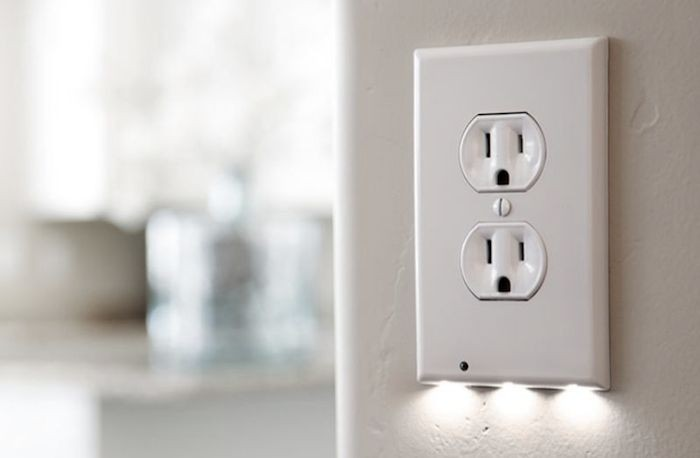outlet: (471, 124, 540, 191), (473, 233, 539, 297)
